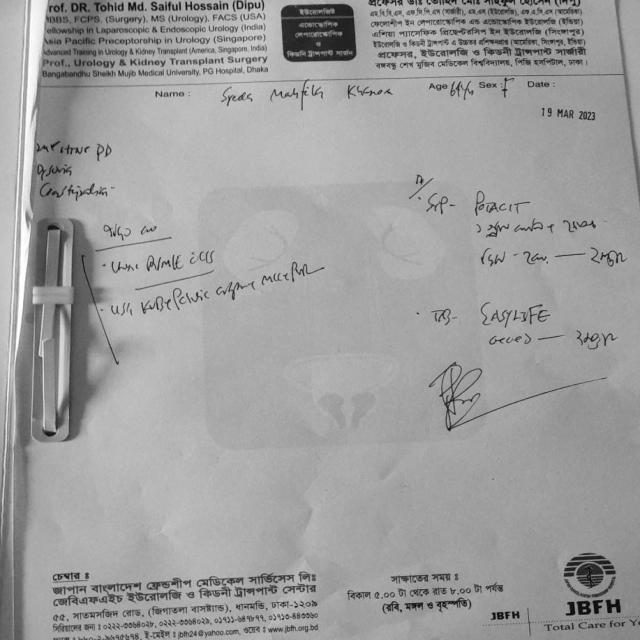Easylife: (472, 297, 558, 333)
Potacit: (466, 188, 534, 219)
